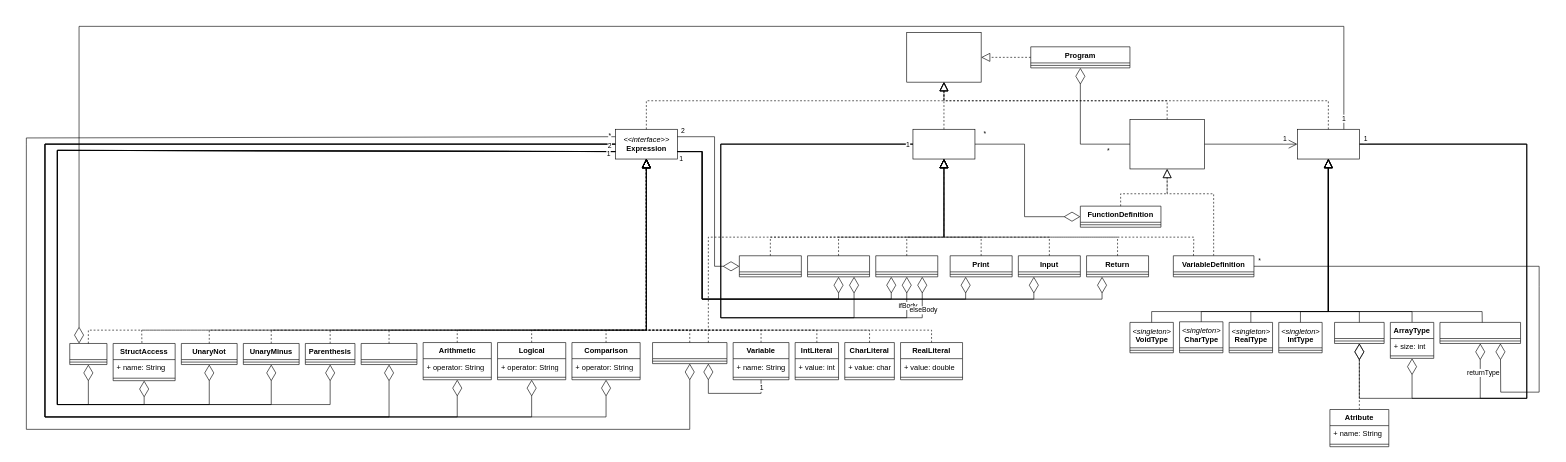
This 1566x462 diagram has some shape labels left out. The shapes that lost their labels are listed below. From the top down, each one's centre as x and y in pixels, then its label:
pixel 943 57: <<interface>> AstNode + getLine() : int + getColumn() : int
pixel 943 144: <<interface>> Statement
pixel 1166 144: <<interface>> Definition + getType() : Type + getName() : String
pixel 1328 144: <<interface>> Type
pixel 770 266: Assignment
pixel 838 266: While
pixel 906 266: IfElse
pixel 1359 332: StructType
pixel 1480 332: FunctionType
pixel 88 354: Cast
pixel 389 354: ArrayAccess
pixel 689 353: FunctionInvocation
